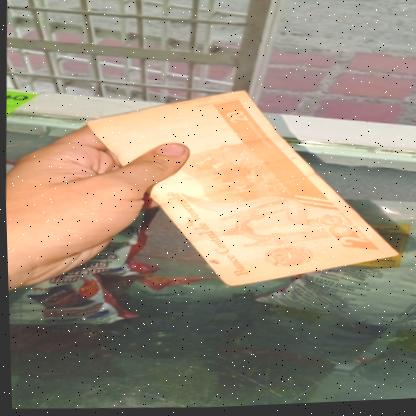twenty-back-vef: (79, 81, 404, 300)
